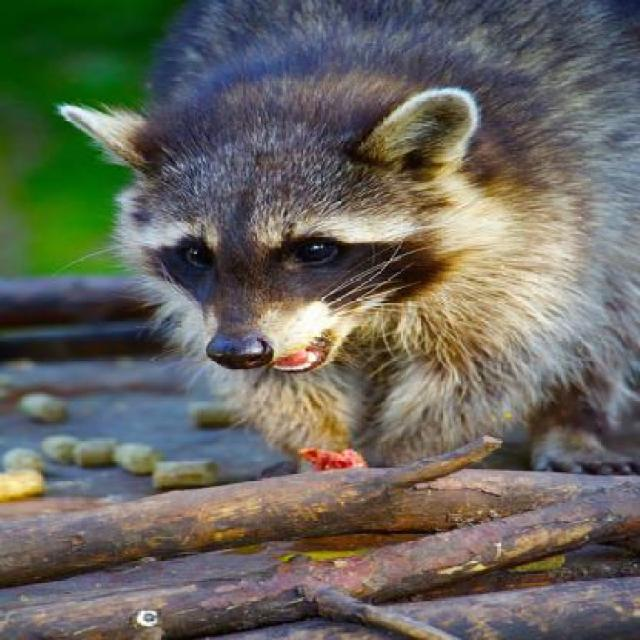raccon: (55, 3, 640, 466)
